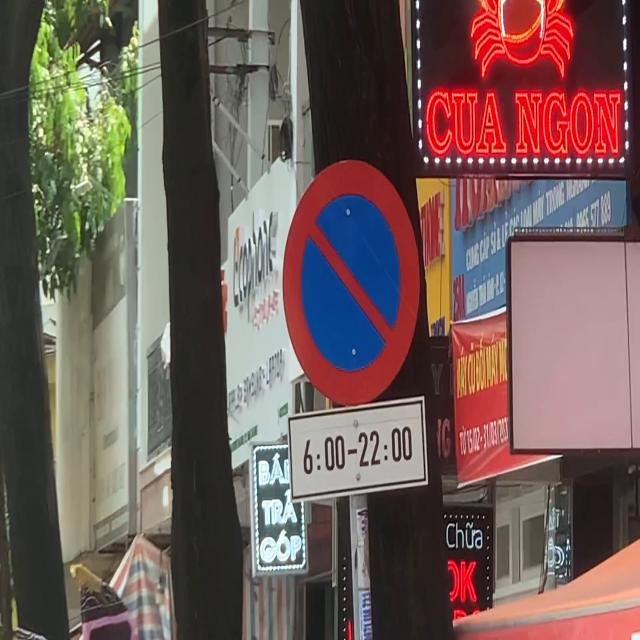Cam do: (282, 159, 421, 406)
